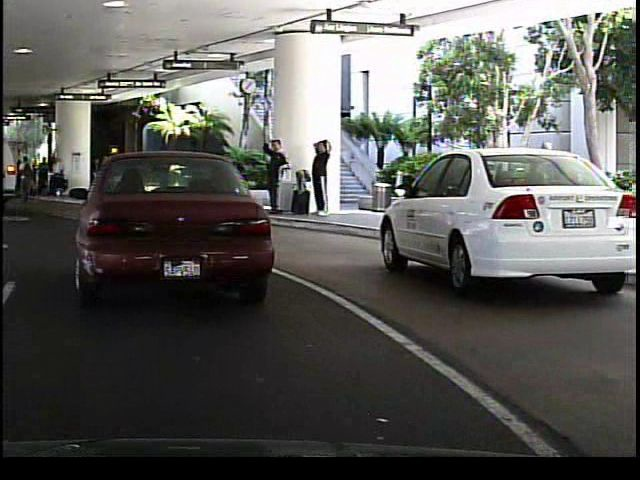person: (306, 133, 331, 219), (259, 132, 281, 207), (307, 148, 329, 213), (149, 155, 168, 196)
